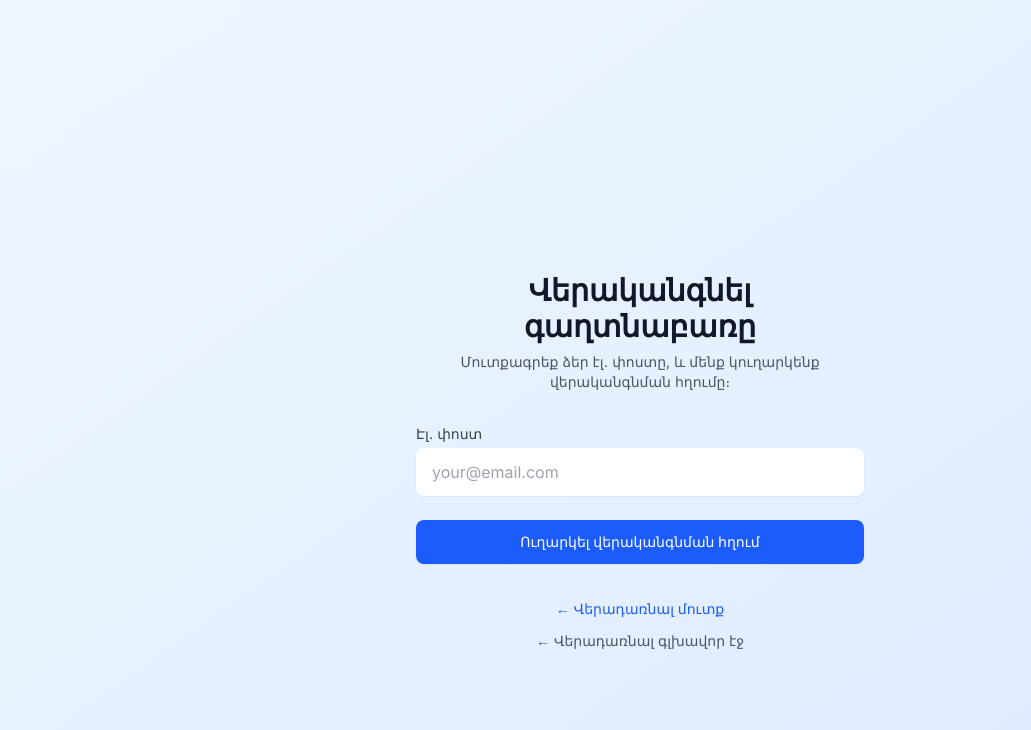
Test: ForgotPasswordPage › submits email and shows generic success message
This screenshot has width=1031, height=730.
In the field labelled "Էլ․ փոստ": (640,472) [416, 448, 864, 496], type "test@example.com"
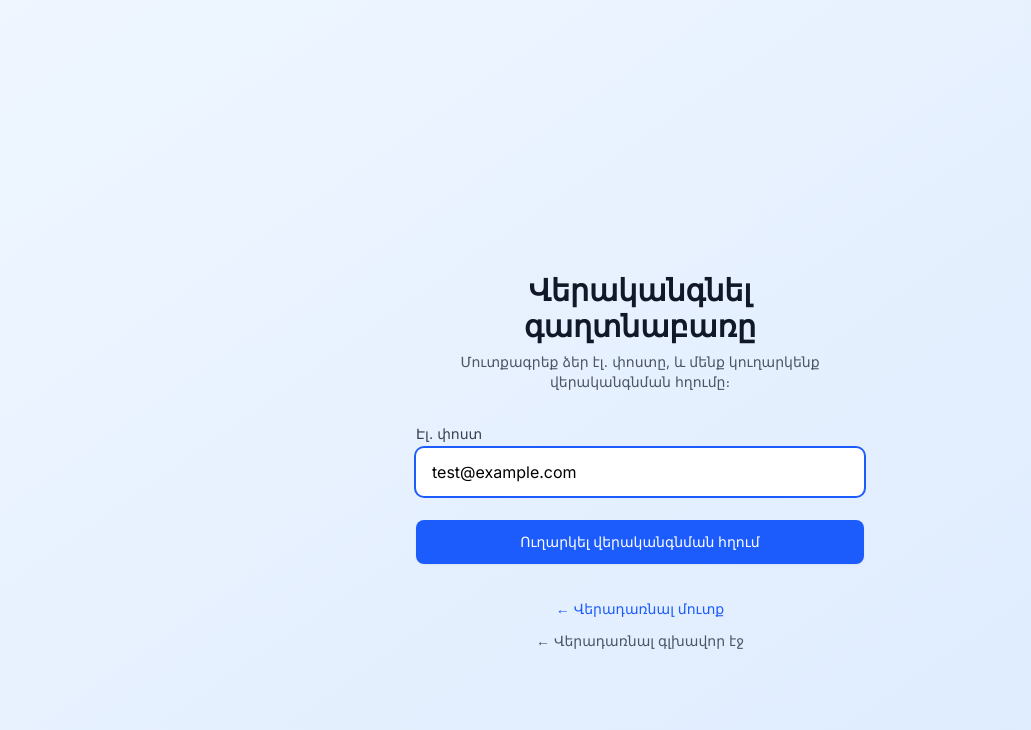
Click the button "Ուղարկել վերականգնման հղում": (640,542) [416, 520, 864, 564]
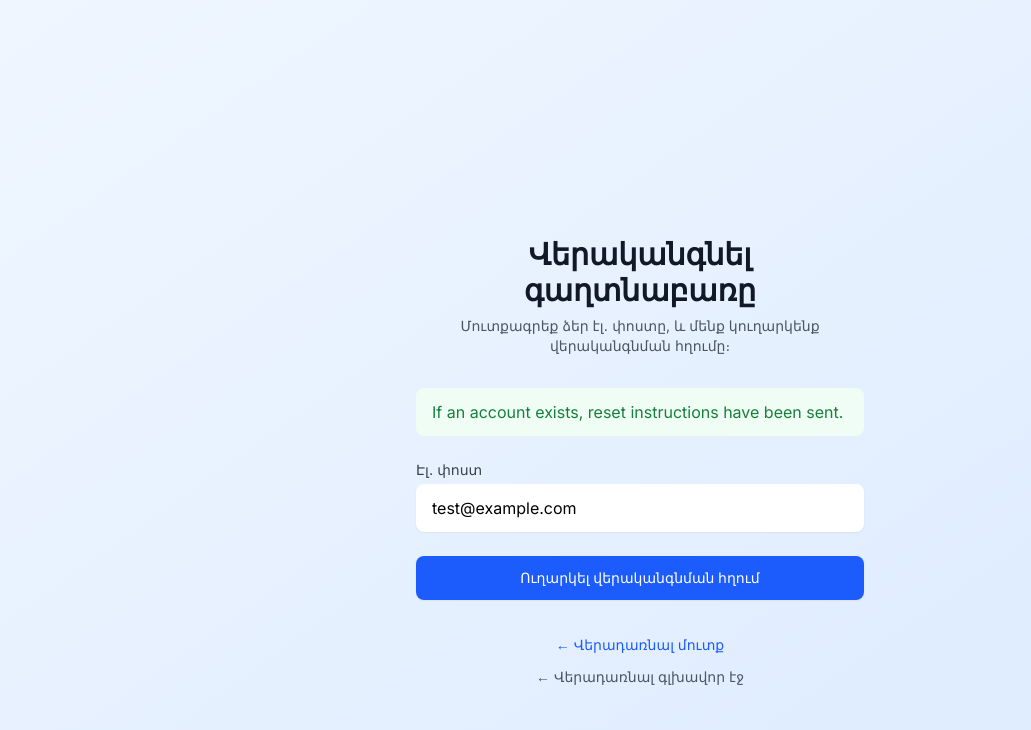
Expected: the text "If an account exists, reset instructions have been sent." is shown, [416, 388, 864, 436]
